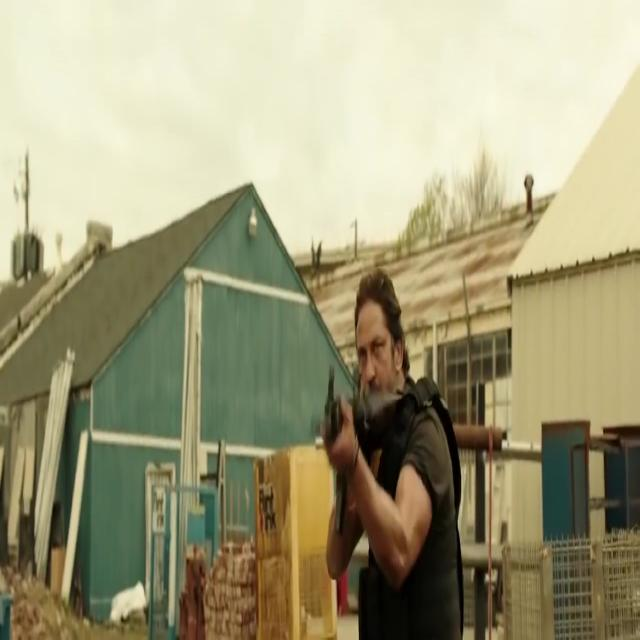Weapon: (319, 366, 376, 526)
